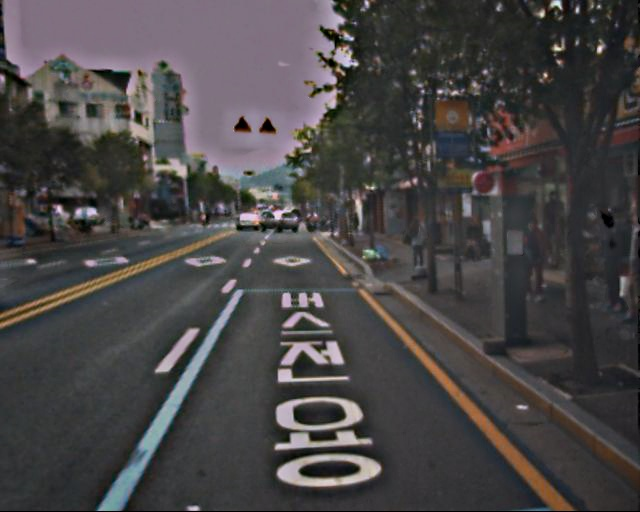person: (587, 203, 640, 331), (512, 218, 549, 302), (405, 215, 429, 271), (465, 218, 483, 263)
